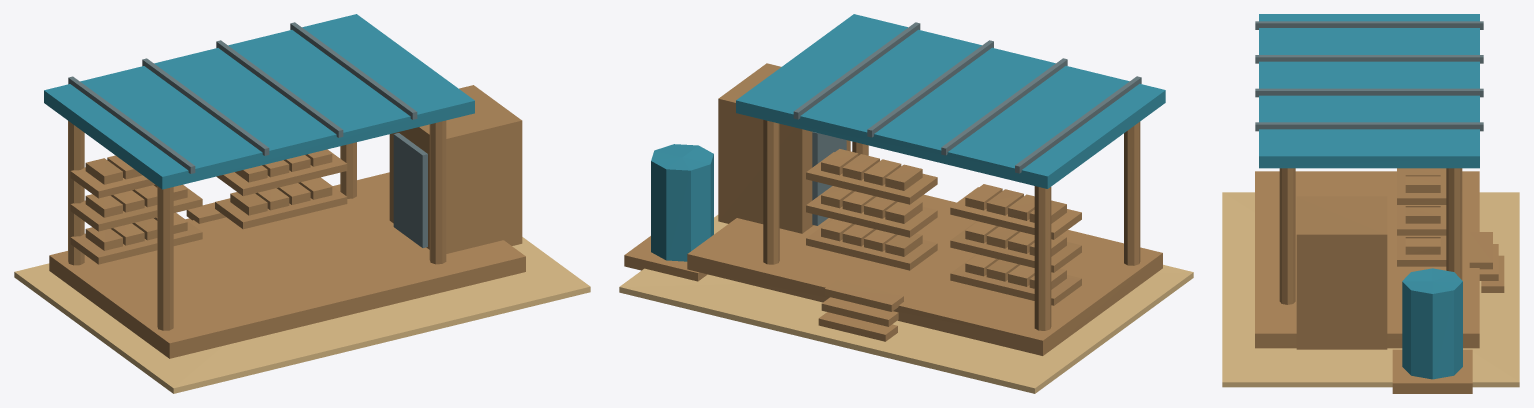
The model's file is reforestation-station.source.glb.
3 renders of one model, left to right at view 1: azimuth 30°, elevation 25°; view 2: azimuth 150°, elevation 25°; view 3: azimuth 270°, elevation 25°, orthographic. The views are drawn at different scales.
Parts seen in each view (by area): view 1: reforestation-station-raised-deck-mesh, reforestation-station-canopy-roof-mesh, reforestation-station-dirt-pad-mesh, reforestation-station-supply-closet-mesh, reforestation-station-closet-door-mesh, reforestation-station-canopy-post-1.35-1.15-mesh, reforestation-station-canopy-post--2.7-1.15-mesh, reforestation-station-rack-0.1-0.85-mesh, reforestation-station-canopy-post--2.7--1.15-mesh, reforestation-station-rack-0.1-1.32-mesh, reforestation-station-rack--2.05-0.85-mesh, reforestation-station-rack--2.05-1.32-mesh (+11 smaller); view 2: reforestation-station-canopy-roof-mesh, reforestation-station-raised-deck-mesh, reforestation-station-dirt-pad-mesh, reforestation-station-supply-closet-mesh, reforestation-station-service-tank-mesh, reforestation-station-canopy-post--2.7--1.15-mesh, reforestation-station-canopy-post-1.35--1.15-mesh, reforestation-station-canopy-post--2.7-1.15-mesh, reforestation-station-rack-0.1-1.79-mesh, reforestation-station-rack-0.1-1.32-mesh, reforestation-station-rack-0.1-0.85-mesh, reforestation-station-rack--2.05-0.85-mesh (+20 smaller); view 3: reforestation-station-canopy-roof-mesh, reforestation-station-dirt-pad-mesh, reforestation-station-supply-closet-mesh, reforestation-station-raised-deck-mesh, reforestation-station-service-tank-mesh, reforestation-station-canopy-post-1.35-1.15-mesh, reforestation-station-tank-stand-mesh, reforestation-station-roof-rib--0.35-mesh, reforestation-station-roof-rib-0.75-mesh, reforestation-station-canopy-post-1.35--1.15-mesh, reforestation-station-roof-rib--2.55-mesh, reforestation-station-roof-rib--1.45-mesh (+10 smaller).
Part boxes in pixels (<box>): reforestation-station-raised-deck-mesh: <box>49,172,525,358</box>; reforestation-station-canopy-roof-mesh: <box>44,14,474,189</box>; reforestation-station-dirt-pad-mesh: <box>14,237,590,393</box>; reforestation-station-supply-closet-mesh: <box>389,85,522,253</box>; reforestation-station-closet-door-mesh: <box>393,133,427,247</box>; reforestation-station-canopy-post-1.35-1.15-mesh: <box>429,120,446,264</box>; reforestation-station-canopy-post--2.7-1.15-mesh: <box>157,186,173,330</box>; reforestation-station-rack-0.1-0.85-mesh: <box>215,177,347,229</box>; reforestation-station-canopy-post--2.7--1.15-mesh: <box>68,121,84,265</box>; reforestation-station-rack-0.1-1.32-mesh: <box>216,149,347,196</box>; reforestation-station-rack--2.05-0.85-mesh: <box>70,212,202,264</box>; reforestation-station-rack--2.05-1.32-mesh: <box>70,184,202,231</box>; reforestation-station-canopy-roof-mesh: <box>736,14,1165,188</box>; reforestation-station-raised-deck-mesh: <box>687,194,1162,355</box>; reforestation-station-dirt-pad-mesh: <box>619,215,1193,393</box>; reforestation-station-supply-closet-mesh: <box>718,63,850,233</box>; reforestation-station-service-tank-mesh: <box>651,144,713,261</box>; reforestation-station-canopy-post--2.7--1.15-mesh: <box>1034,186,1051,330</box>; reforestation-station-canopy-post-1.35--1.15-mesh: <box>763,120,779,264</box>; reforestation-station-canopy-post--2.7-1.15-mesh: <box>1124,121,1140,265</box>; reforestation-station-rack-0.1-1.79-mesh: <box>806,152,937,204</box>; reforestation-station-rack-0.1-1.32-mesh: <box>806,186,937,237</box>; reforestation-station-rack-0.1-0.85-mesh: <box>806,219,937,270</box>; reforestation-station-rack--2.05-0.85-mesh: <box>950,254,1081,305</box>; reforestation-station-canopy-roof-mesh: <box>1259,14,1479,168</box>; reforestation-station-dirt-pad-mesh: <box>1222,192,1519,387</box>; reforestation-station-supply-closet-mesh: <box>1296,196,1387,349</box>; reforestation-station-raised-deck-mesh: <box>1255,171,1479,348</box>; reforestation-station-service-tank-mesh: <box>1402,268,1462,379</box>; reforestation-station-canopy-post-1.35-1.15-mesh: <box>1279,168,1295,304</box>; reforestation-station-tank-stand-mesh: <box>1392,349,1472,393</box>; reforestation-station-roof-rib--0.35-mesh: <box>1255,88,1483,97</box>; reforestation-station-roof-rib-0.75-mesh: <box>1255,122,1483,131</box>; reforestation-station-canopy-post-1.35--1.15-mesh: <box>1446,168,1462,279</box>; reforestation-station-roof-rib--2.55-mesh: <box>1255,21,1483,29</box>; reforestation-station-roof-rib--1.45-mesh: <box>1255,55,1483,63</box>.
Bounding box in the file's own units: 6.5 × 2.92 × 4.1.
